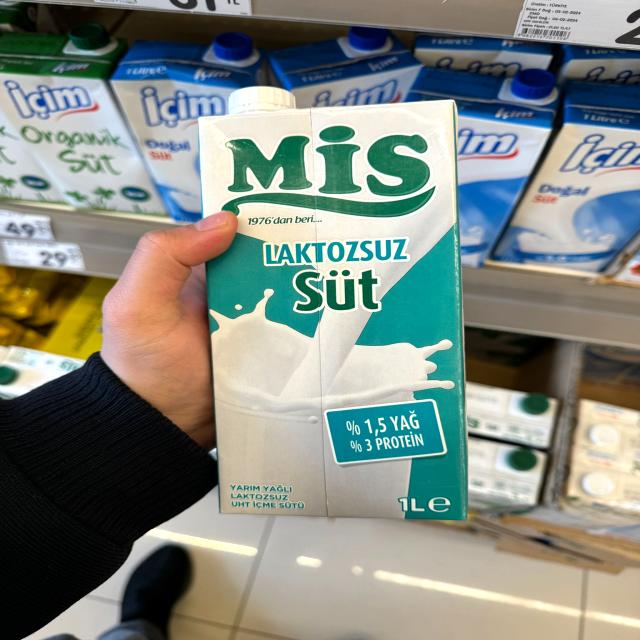milk: (204, 103, 467, 519)
